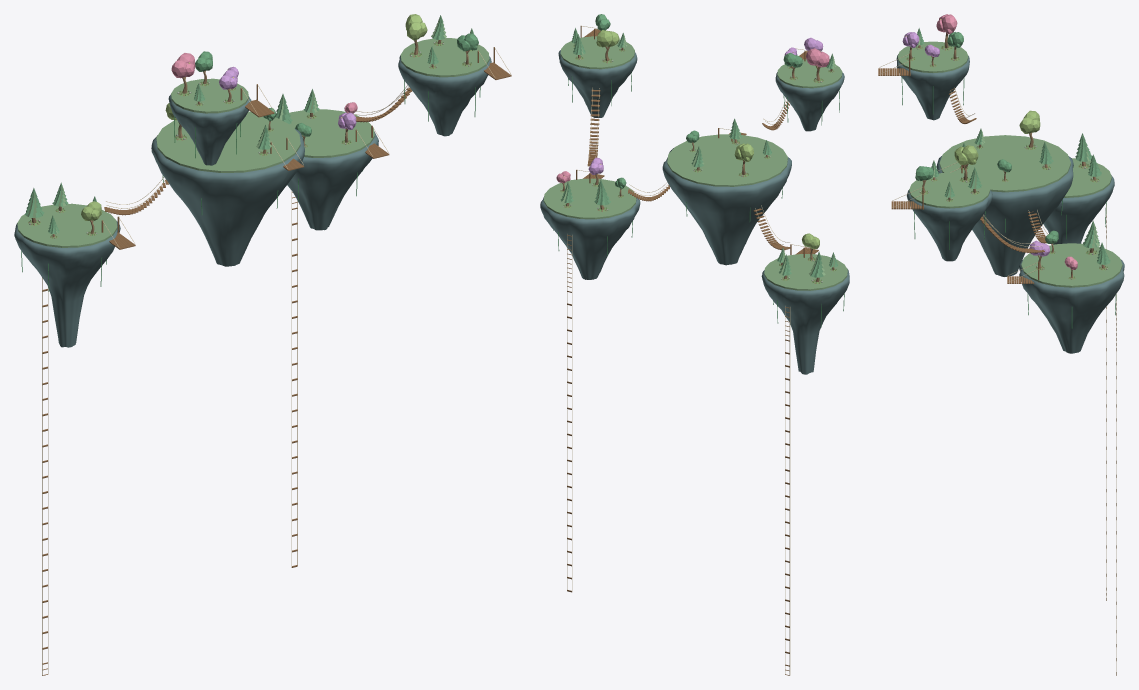
File: sky_harbor.glb
3 renders of one model, left to right at view 1: azimuth 30°, elevation 25°; view 2: azimuth 150°, elevation 25°; view 3: azimuth 270°, elevation 25°, orthographic. The views are drawn at different scales.
Parts seen in each view (by area): view 1: VR forest tiered_pine; view 2: VR forest tiered_pine; view 3: VR forest tiered_pine.
Part boxes in pixels (box(x1,y1,x2,y2)): VR forest tiered_pine: box(14, 14, 511, 675); VR forest tiered_pine: box(540, 14, 849, 675); VR forest tiered_pine: box(878, 14, 1124, 675).
Bounding box in the file's own units: 75.09 × 121 × 44.34.
